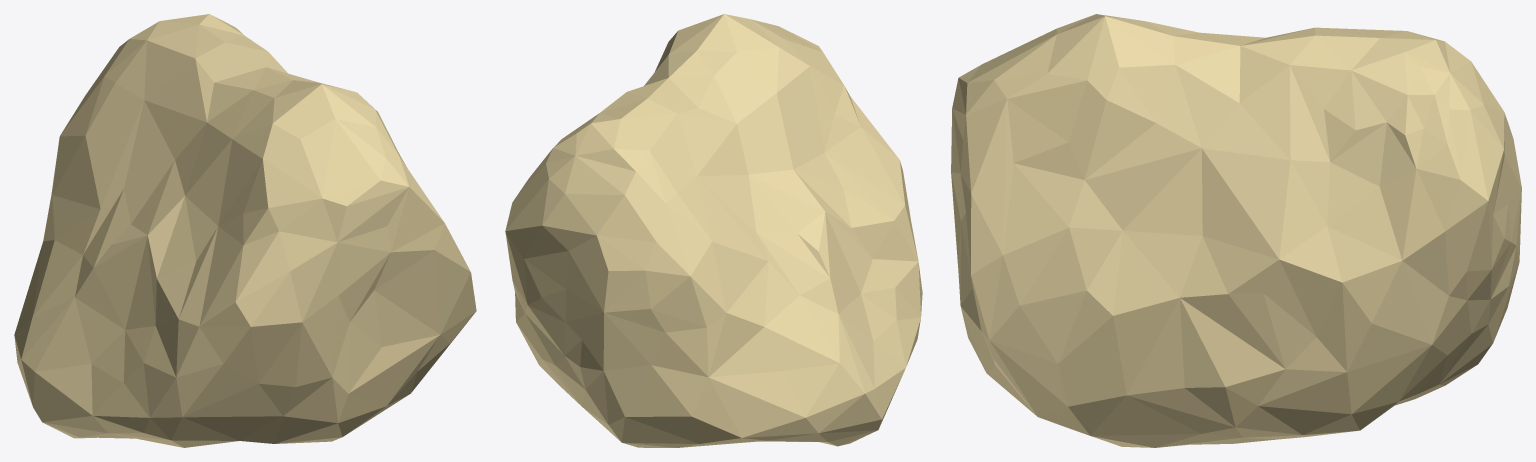
File: Asteroid (30).fbx
3 renders of one model, left to right at view 1: azimuth 30°, elevation 25°; view 2: azimuth 150°, elevation 25°; view 3: azimuth 270°, elevation 25°, orthographic. The views are drawn at different scales.
Parts seen in each view (by area): view 1: Asteroid147; view 2: Asteroid147; view 3: Asteroid147.
Part boxes in pixels (x1=…): Asteroid147: x1=14, y1=14, x2=476, y2=447; Asteroid147: x1=505, y1=14, x2=922, y2=447; Asteroid147: x1=951, y1=14, x2=1521, y2=447.
Size of the model in its own units: 190 by 190 by 232.
